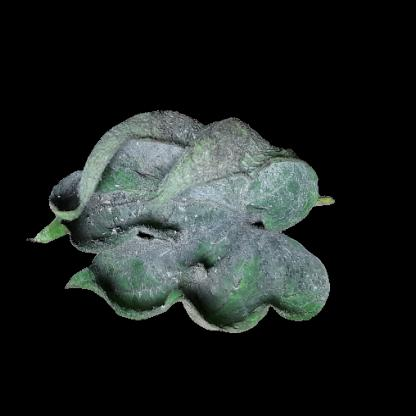curl_stage2: (180, 292, 261, 336), (93, 140, 119, 168)
sooty: (123, 164, 285, 284), (138, 114, 242, 160), (287, 250, 326, 302), (84, 211, 117, 249), (284, 168, 318, 203)
